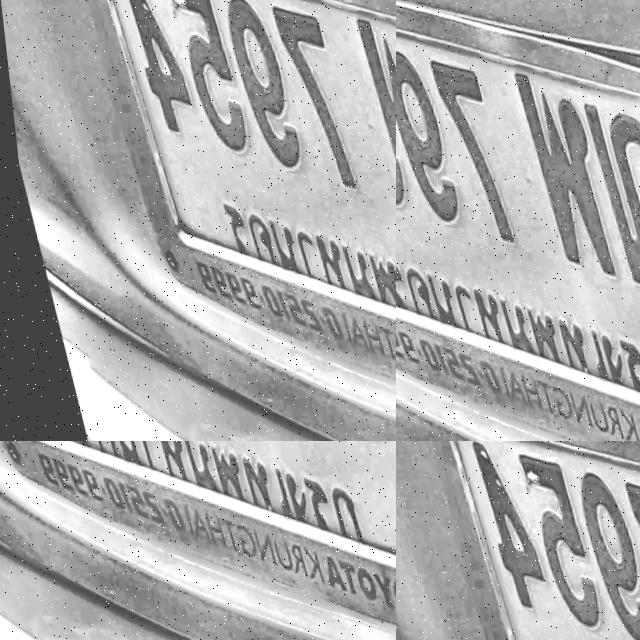license-plate: (400, 441, 640, 640)
